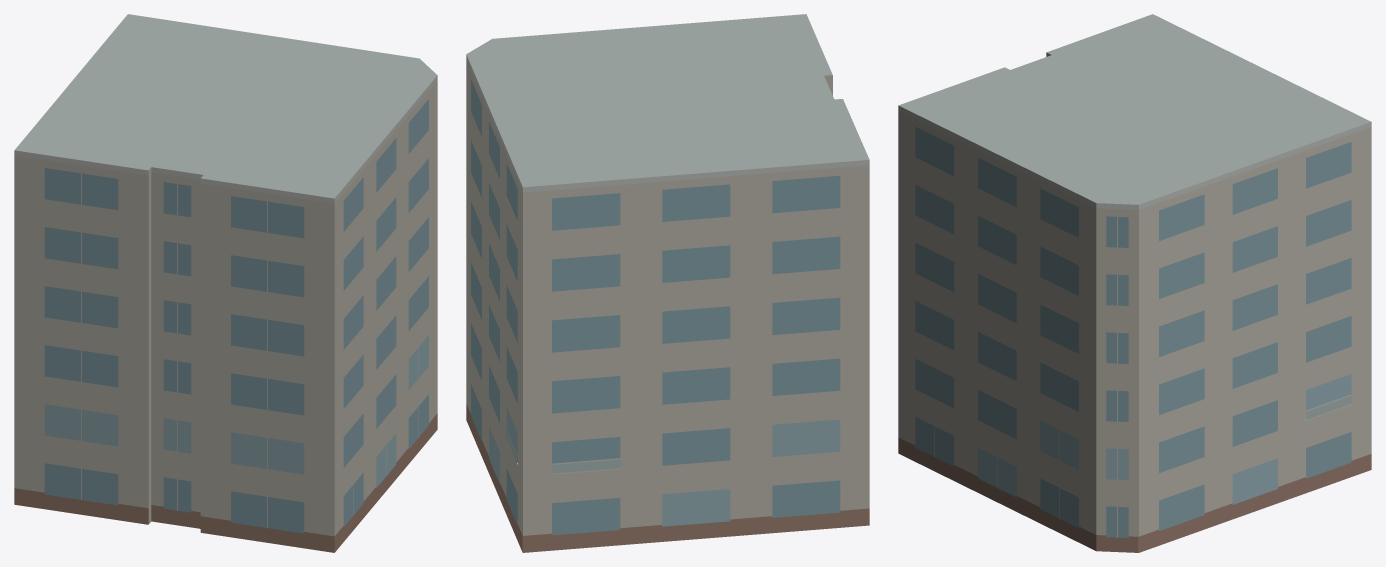
File: survey-upis-32745772.glb
3 views of the same model, side by side, from view 1: azimuth 30°, elevation 25°; view 2: azimuth 150°, elevation 25°; view 3: azimuth 270°, elevation 25° (orthographic). The views are drawn at different scales.
Visible parts, largest first — view 1: survey-upis-32745772.tmp; view 2: survey-upis-32745772.tmp; view 3: survey-upis-32745772.tmp.
Part boxes in pixels (x1,y1,x2,y2): survey-upis-32745772.tmp: (14, 14, 437, 552); survey-upis-32745772.tmp: (466, 14, 869, 552); survey-upis-32745772.tmp: (898, 14, 1371, 552).
Size of the model in its own units: 19.53 by 16.6 by 20.46.
